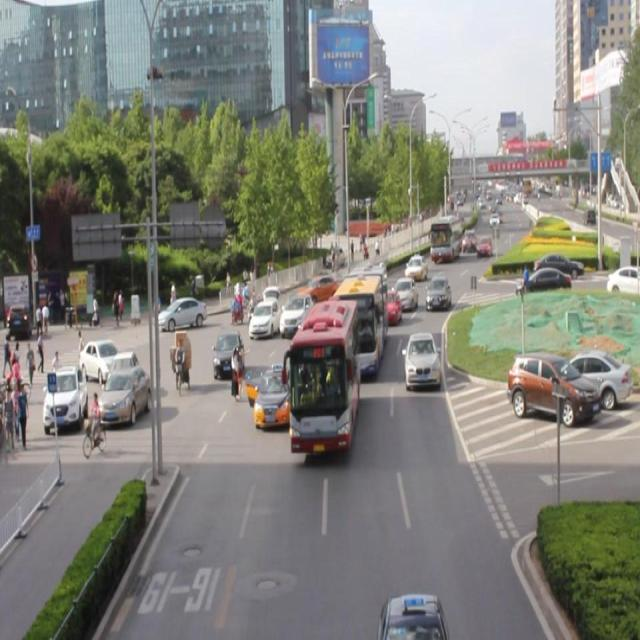car: (379, 592, 445, 640), (252, 364, 293, 428), (405, 331, 439, 390), (280, 292, 314, 337), (212, 328, 242, 377), (249, 296, 282, 340), (297, 273, 339, 305), (374, 287, 401, 325), (390, 276, 417, 312), (424, 273, 450, 310), (403, 253, 426, 279)
van: (286, 301, 356, 452), (332, 262, 384, 376)
